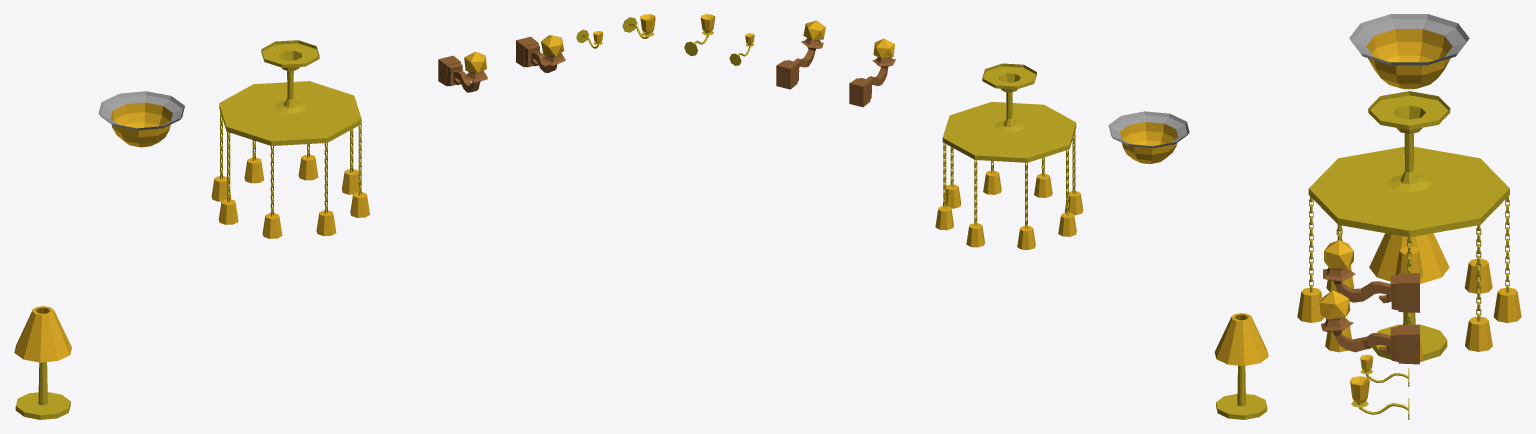
File: Lights Pack.fbx
3 renders of one model, left to right at view 1: azimuth 30°, elevation 25°; view 2: azimuth 150°, elevation 25°; view 3: azimuth 270°, elevation 25°, orthographic. The views are drawn at different scales.
Parts seen in each view (by area): view 1: Chandelier, Table Lamp, Roof Light, Lamp 1, Lamp 1 Damanged; view 2: Chandelier, Table Lamp, Roof Light, Lamp 1, Lamp 1 Damanged; view 3: Chandelier, Roof Light, Table Lamp, Lamp 1, Lamp 1 Damanged, Lamp 3 Small, Lamp 2 Small.
Part boxes in pixels (x1,y1,x2,y2): Chandelier: (211,40,369,238); Table Lamp: (14,306,71,419); Roof Light: (98,91,184,147); Lamp 1: (438,51,487,92); Lamp 1 Damanged: (516,35,565,72); Chandelier: (935,63,1083,249); Table Lamp: (1214,313,1268,419); Roof Light: (1108,111,1189,164); Lamp 1: (849,38,895,107); Lamp 1 Damanged: (776,20,825,89); Chandelier: (1297,91,1521,360); Roof Light: (1349,14,1469,89); Table Lamp: (1369,233,1449,361); Lamp 1: (1323,240,1419,312); Lamp 1 Damanged: (1319,290,1419,364); Lamp 3 Small: (1350,376,1409,419); Lamp 2 Small: (1360,354,1409,386).
Bounding box in the file's own units: 3.56 × 1.63 × 0.821.
